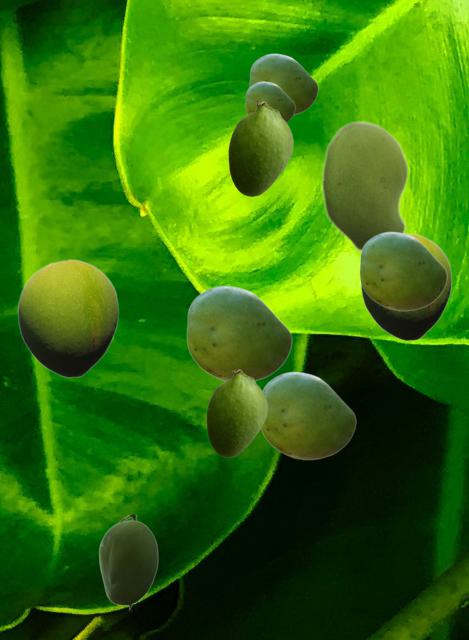green_mango: (17, 259, 118, 377), (321, 120, 408, 252), (186, 285, 291, 381), (360, 233, 451, 340), (261, 371, 355, 459), (359, 231, 446, 310), (228, 101, 292, 195), (98, 515, 157, 609), (206, 369, 266, 456), (249, 53, 317, 115), (245, 81, 294, 121)
